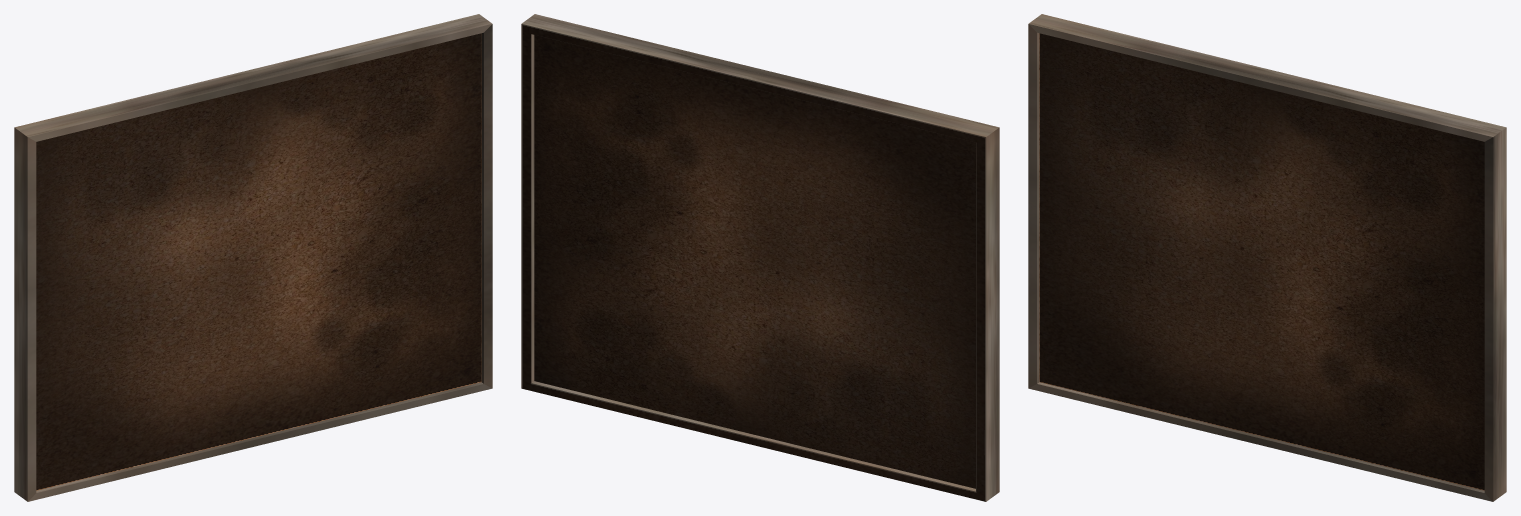
File: CorkBoard.fbx
3 renders of one model, left to right at view 1: azimuth 30°, elevation 25°; view 2: azimuth 150°, elevation 25°; view 3: azimuth 330°, elevation 25°, orthographic.
Visible parts, largest first — view 1: Cube; view 2: Cube; view 3: Cube.
Part boxes in pixels (x1,y1,x2,y2): Cube: (14,14,492,501); Cube: (521,14,999,501); Cube: (1028,14,1506,501).
Bounding box in the file's own units: 100 × 75 × 5.
